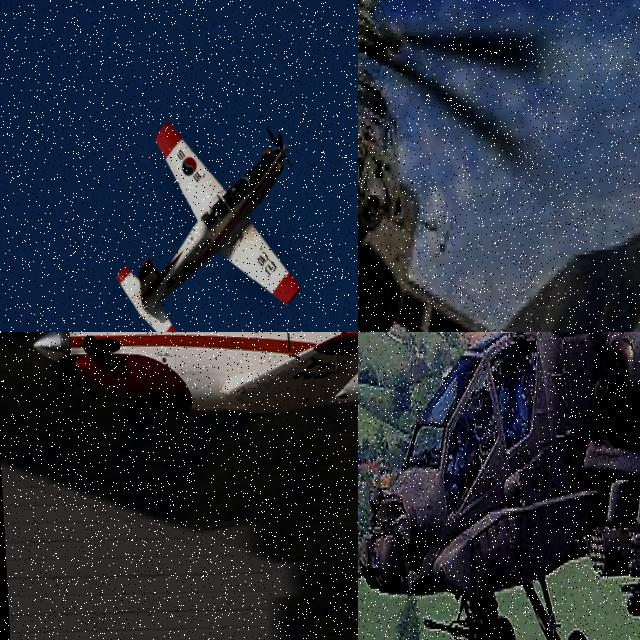Apache: (358, 332, 640, 640), (358, 0, 557, 332)
KT-1: (104, 105, 304, 332), (32, 332, 358, 439)
